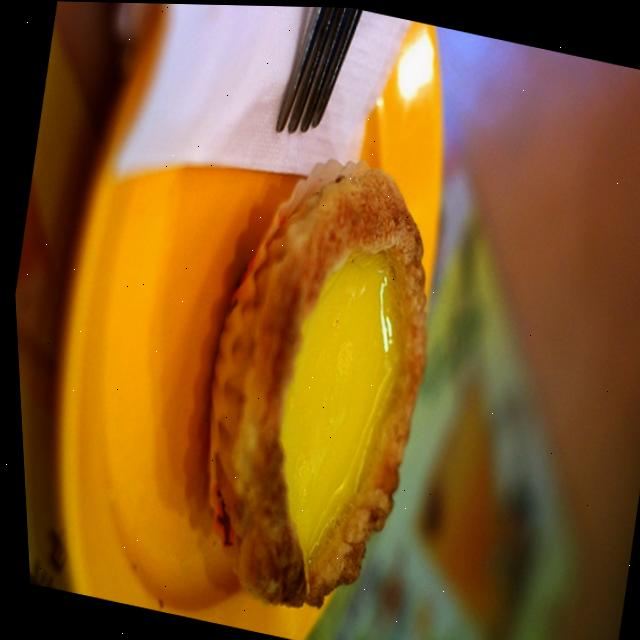炸货点心: (141, 130, 471, 640)
蛋糕甜品: (141, 130, 471, 640)
